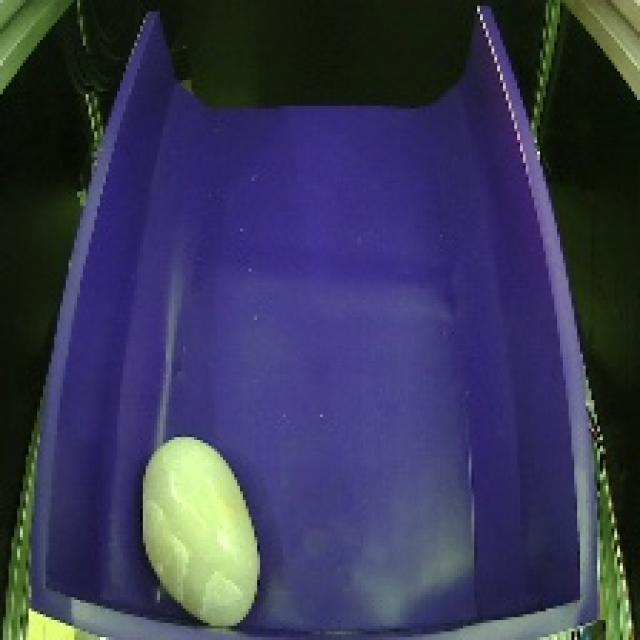cobbles: (124, 428, 275, 634)
